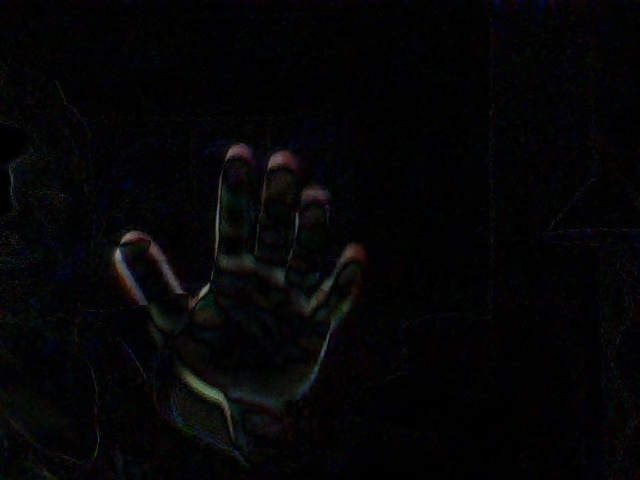hand_pa: (105, 134, 377, 415)
